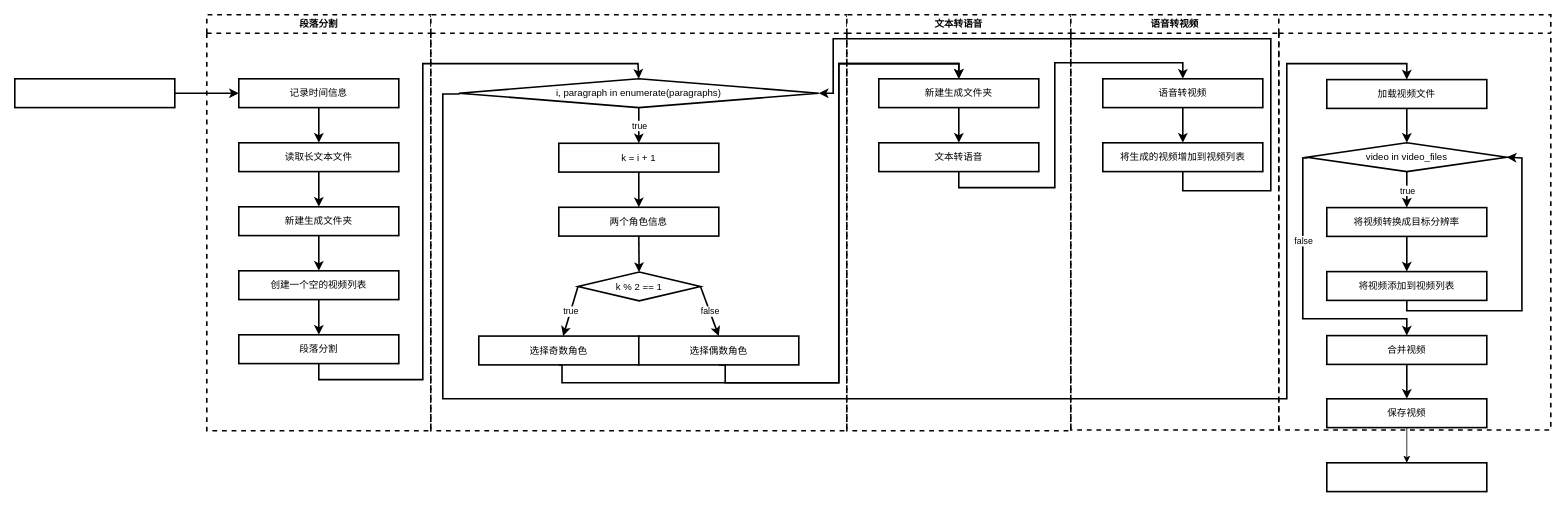
Image size: 1565x506. Some labels were removed from this diagram. The shapes that lost their labels are listed below. From the top down, each one's centre as x and y in pixels, then its label:
(x=94, y=93): 开始
(x=638, y=222): 段落分配
(x=1414, y=222): 视频拼接
(x=1406, y=477): 结束
